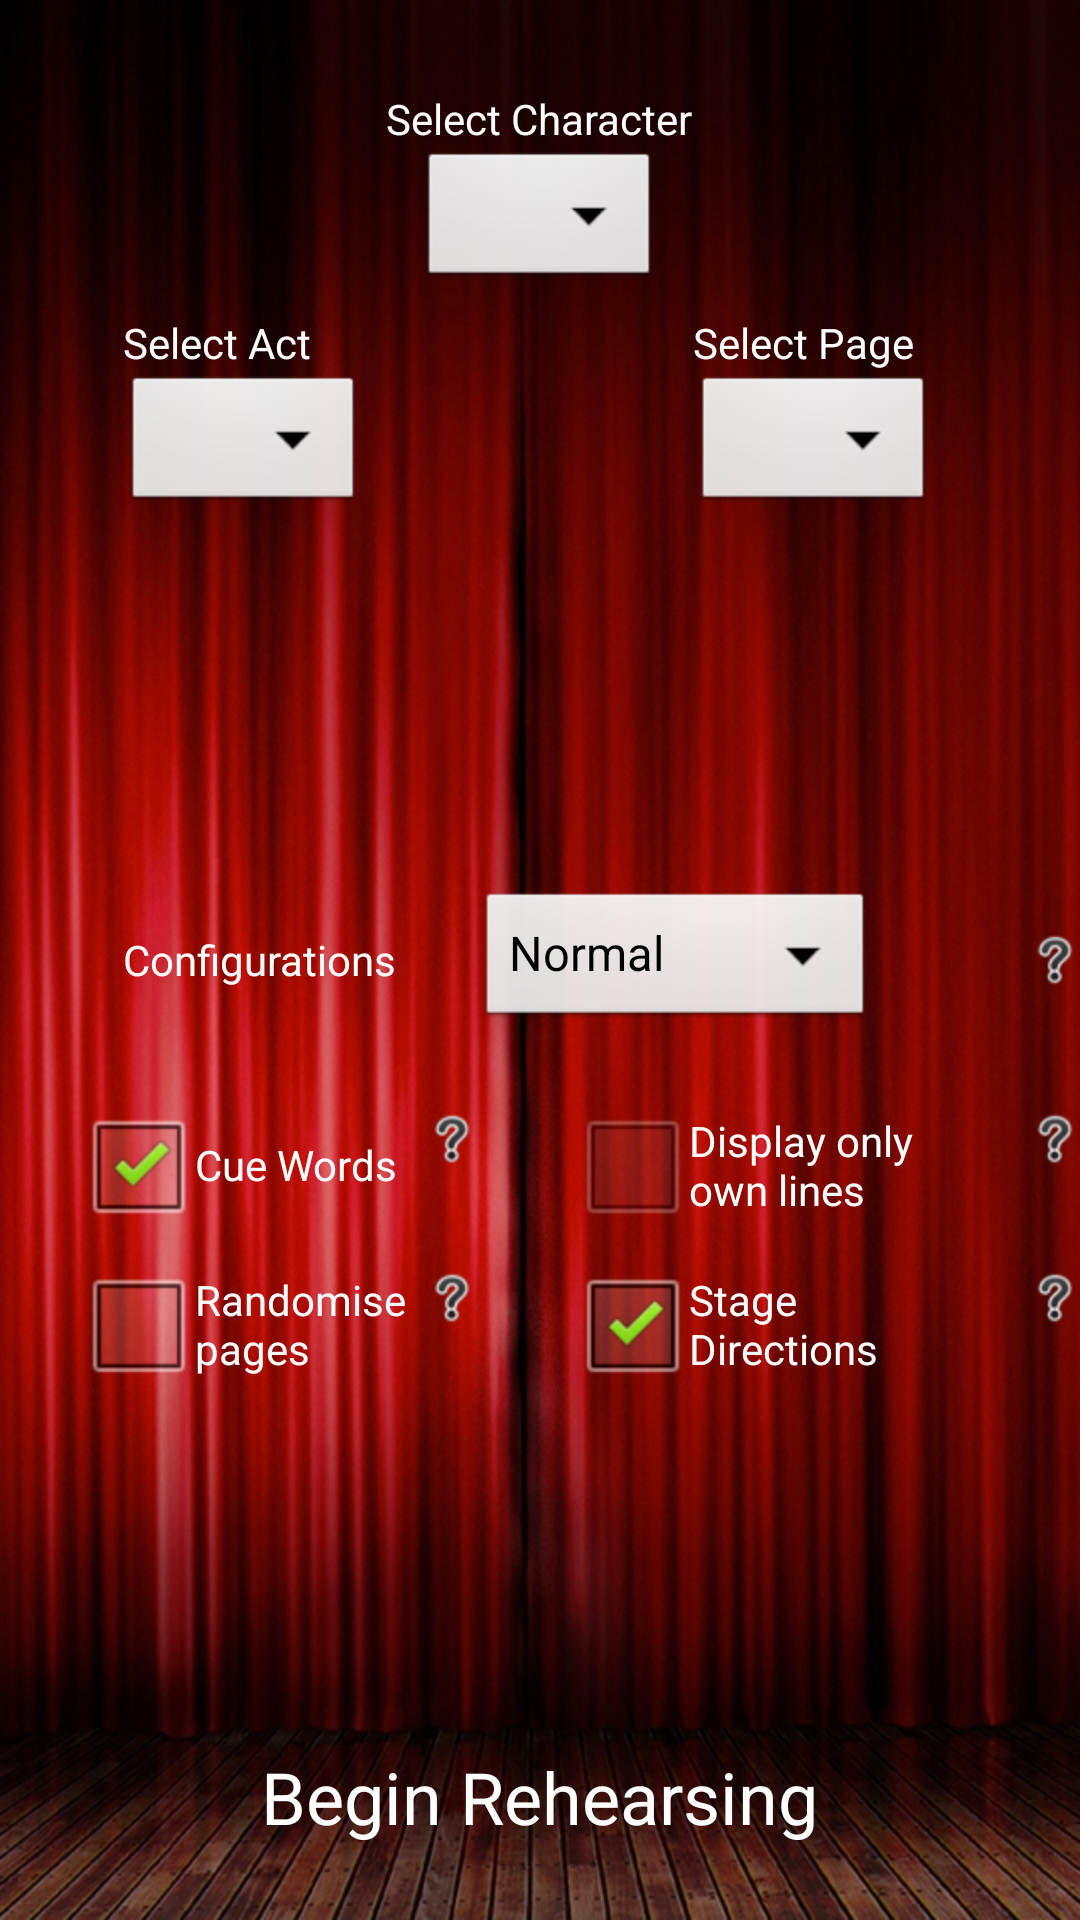

Where to tap for icons on this 1080*1920 app screen, as [x,y]:
help: [1058,960], [452,1139], [1058,1139], [452,1298], [1058,1298]
